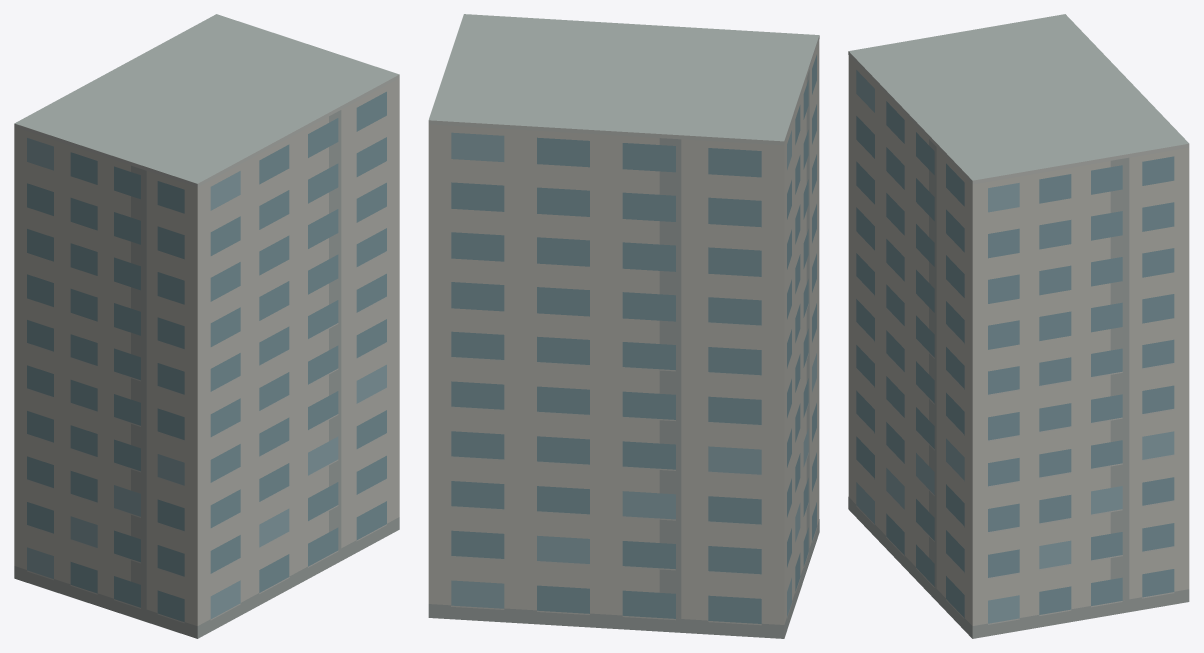
Rendered from residential-850b3135-01c7-4d39-af26-c3ee543e82c7.glb.
The picture shows the model from 3 angles, left to right: view 1: azimuth 30°, elevation 25°; view 2: azimuth 150°, elevation 25°; view 3: azimuth 270°, elevation 25°; orthographic projection. The views are drawn at different scales.
Parts seen in each view (by area): view 1: residential-850b3135-01c7-4d39-af26-c3ee543e82c7.tmp; view 2: residential-850b3135-01c7-4d39-af26-c3ee543e82c7.tmp; view 3: residential-850b3135-01c7-4d39-af26-c3ee543e82c7.tmp.
Boxes of the visible parts, bbox=[...] form: residential-850b3135-01c7-4d39-af26-c3ee543e82c7.tmp: bbox=[14, 14, 399, 638]; residential-850b3135-01c7-4d39-af26-c3ee543e82c7.tmp: bbox=[428, 14, 819, 638]; residential-850b3135-01c7-4d39-af26-c3ee543e82c7.tmp: bbox=[848, 14, 1189, 638].
Bounding box in the file's own units: 23.41 × 30 × 20.24.
